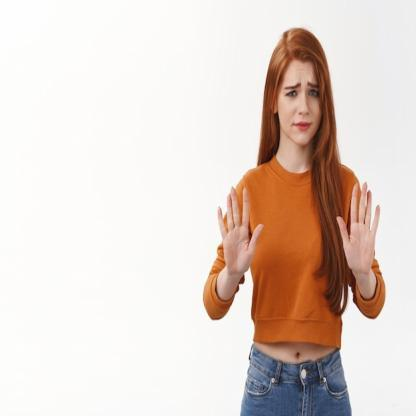stop: (330, 175, 387, 278), (216, 180, 264, 286)
